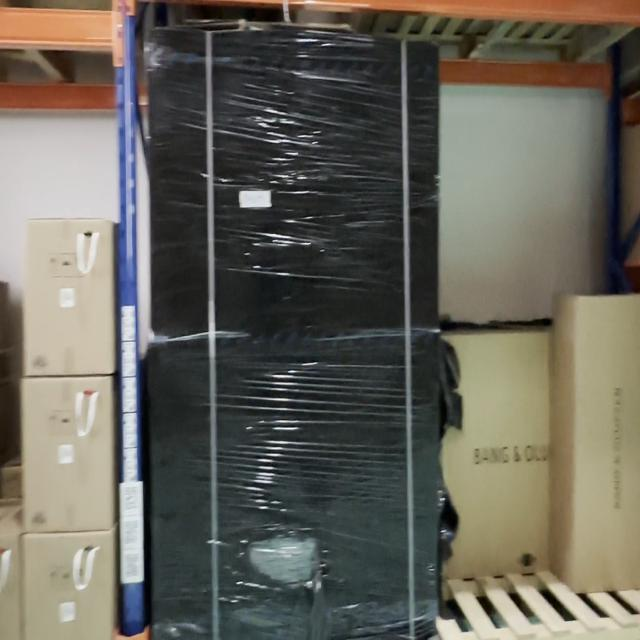box: (148, 33, 432, 637), (443, 329, 551, 572), (578, 297, 640, 588), (25, 378, 110, 532), (28, 222, 112, 373), (26, 539, 111, 638)
